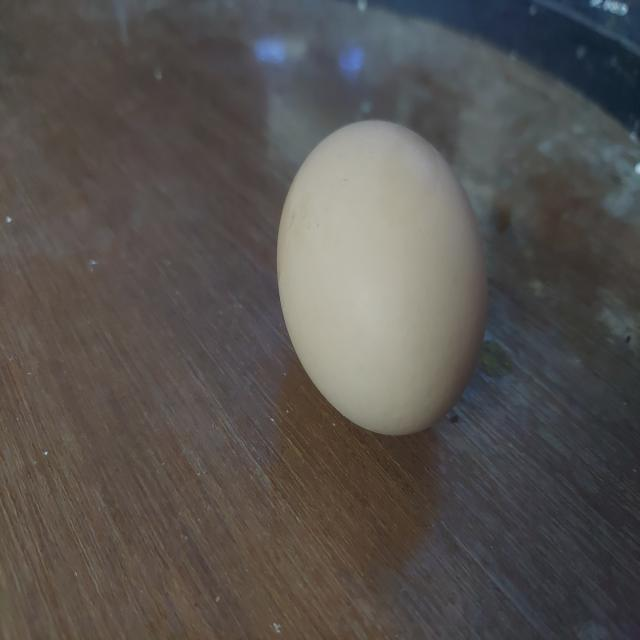Egg: (270, 119, 497, 439)
